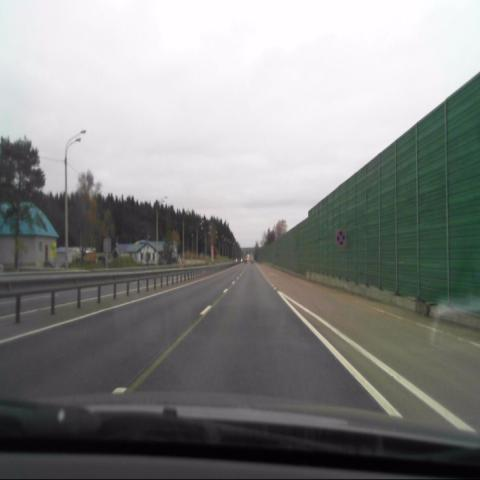3_27: (336, 231, 345, 247)
